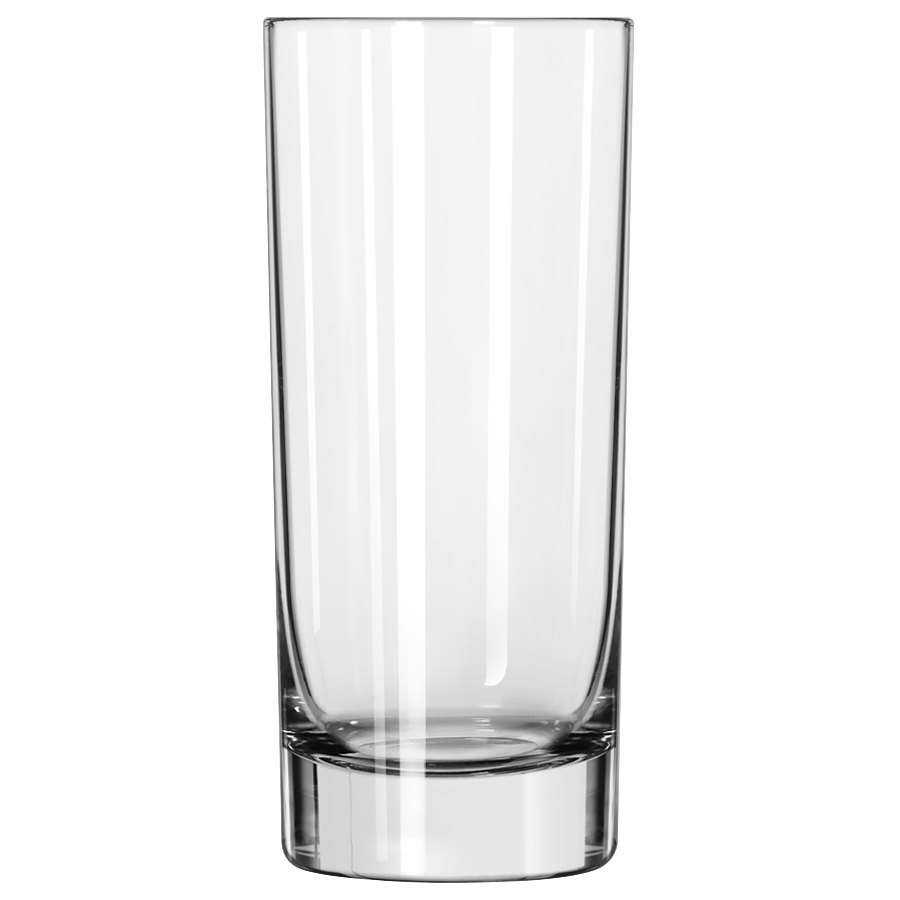glass of water: (227, 3, 668, 880)
